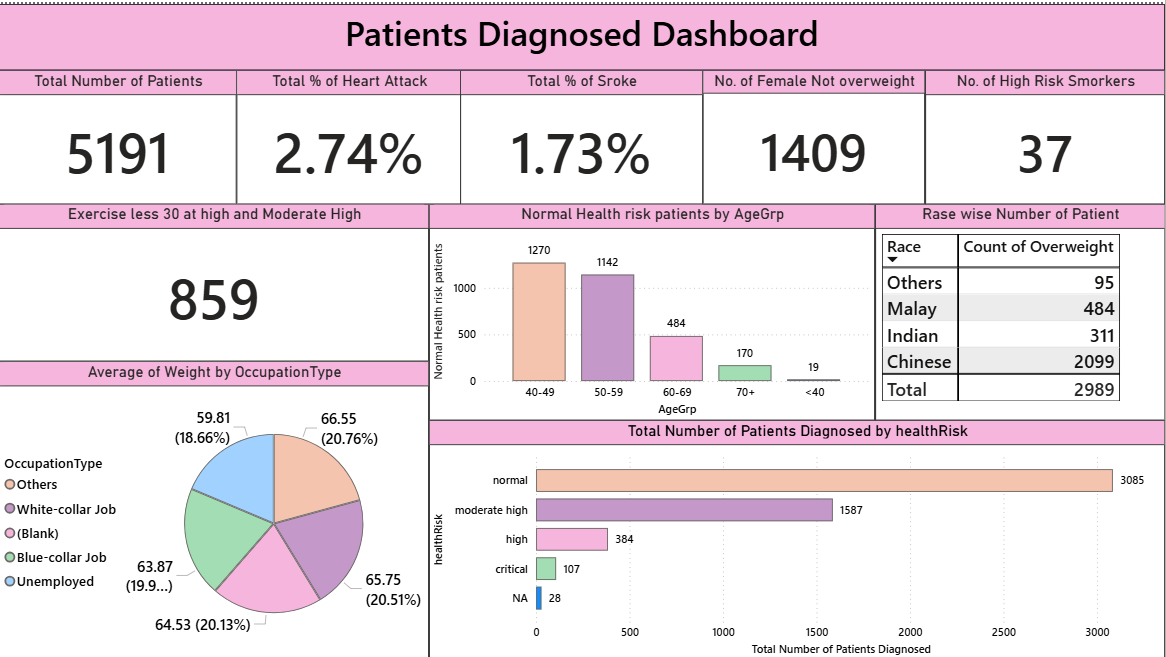

The dashboard page shown, as its layout file describes it:
{"tool":"powerbi","page":{"name":"Page 1","canvas":[1280,720],"ordinal":0},"visuals":[{"type":"card","title":"Total Number of Patients ","fields":{"Values":["Sample_Data.Total Number of Patients Diagnosed"]},"box":[0,72.7,260.7,146.8],"z":0},{"type":"card","title":"Total % of Heart Attack","fields":{"Values":["Sample_Data.History of Heart Attack"]},"box":[260.7,72.7,247,146.8],"z":1000},{"type":"card","title":"Total % of Sroke","fields":{"Values":["Sample_Data.History of Stroke"]},"box":[506.3,72.7,266.2,146.8],"z":2000},{"type":"clusteredBarChart","fields":{"Category":["Sample_Data.healthRisk"],"Y":["Sample_Data.Total Number of Patients Diagnosed"]},"box":[472,456.9,808.2,263.5],"z":3000},{"type":"pieChart","fields":{"Category":["Sample_Data.OccupationType"],"Y":["Avg(Sample_Data.Weight)"]},"box":[0,392.5,472,328],"z":4000},{"type":"tableEx","title":"Rase wise Number of Patient","fields":{"Values":["Sample_Data.Race","CountNonNull(Sample_Data.Overweight)"]},"box":[961.9,219.6,318.4,237.4],"z":5000},{"type":"columnChart","fields":{"Category":["Sample_Data.AgeGrp"],"Y":["Sample_Data.Normal Health risk patients"]},"box":[472,219.6,489.9,237.4],"z":6000},{"type":"card","title":"No. of High Risk Smorkers","fields":{"Values":["Sample_Data.count of smoking and high health risk patient"]},"box":[1016.8,72.7,263.5,146.8],"z":7000},{"type":"card","title":"Exercise less 30 at high and Moderate High","fields":{"Values":["Sample_Data.Exercise less than 30 at high or moderate"]},"box":[0,219.6,472,172.9],"z":8000},{"type":"card","title":"No. of Female Not overweight","fields":{"Values":["Sample_Data.Not overweight female"]},"box":[772.6,72.7,244.3,146.8],"z":9000},{"type":"shape","box":[0,0,1280.3,72.7],"z":10000},{"type":"textbox","box":[0,0,1280.3,72.7],"z":11000}]}

Visuals, with their boxes in screenshot pixels (x1, y1, x2, y2), scaled from the page's 1280x720 canvas onto the 1166x657 screenshot:
"Total Number of Patients " card: (left=0, top=66, right=237, bottom=200)
"Total % of Heart Attack" card: (left=237, top=66, right=462, bottom=200)
"Total % of Sroke" card: (left=461, top=66, right=704, bottom=200)
clusteredBarChart - Sample_Data.healthRisk x Sample_Data.Total Number of Patients Diagnosed: (left=430, top=417, right=1165, bottom=656)
pieChart - Sample_Data.OccupationType x Avg(Sample_Data.Weight): (left=0, top=358, right=430, bottom=656)
"Rase wise Number of Patient" tableEx: (left=876, top=200, right=1165, bottom=417)
columnChart - Sample_Data.AgeGrp x Sample_Data.Normal Health risk patients: (left=430, top=200, right=876, bottom=417)
"No. of High Risk Smorkers" card: (left=926, top=66, right=1165, bottom=200)
"Exercise less 30 at high and Moderate High" card: (left=0, top=200, right=430, bottom=358)
"No. of Female Not overweight" card: (left=704, top=66, right=926, bottom=200)
shape: (left=0, top=0, right=1165, bottom=66)
textbox: (left=0, top=0, right=1165, bottom=66)
